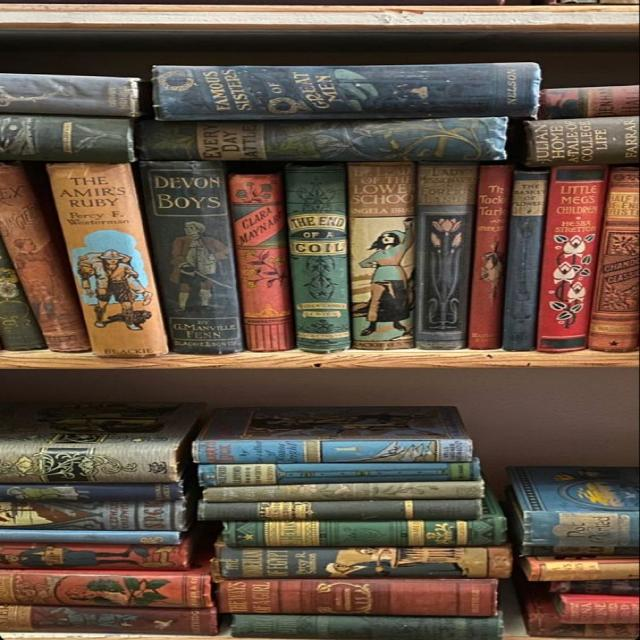book: (46, 163, 168, 357), (139, 161, 245, 353), (151, 65, 541, 117), (0, 160, 92, 352), (134, 118, 508, 161), (348, 163, 416, 349), (541, 169, 608, 353), (286, 164, 350, 350), (416, 161, 478, 349), (228, 174, 292, 353), (216, 580, 500, 615), (591, 168, 640, 352), (221, 548, 512, 578), (468, 164, 512, 348), (502, 169, 545, 351), (226, 519, 508, 546), (0, 572, 210, 608), (0, 604, 218, 636), (233, 615, 502, 640), (0, 444, 176, 482), (197, 463, 482, 486), (0, 118, 134, 164), (194, 440, 474, 462), (0, 74, 137, 118), (525, 118, 639, 168), (198, 500, 483, 520), (204, 483, 485, 503), (0, 501, 181, 531), (0, 544, 184, 570), (525, 510, 640, 547), (541, 85, 639, 120), (1, 486, 184, 500), (0, 531, 179, 544), (534, 563, 640, 581), (560, 601, 640, 623)
